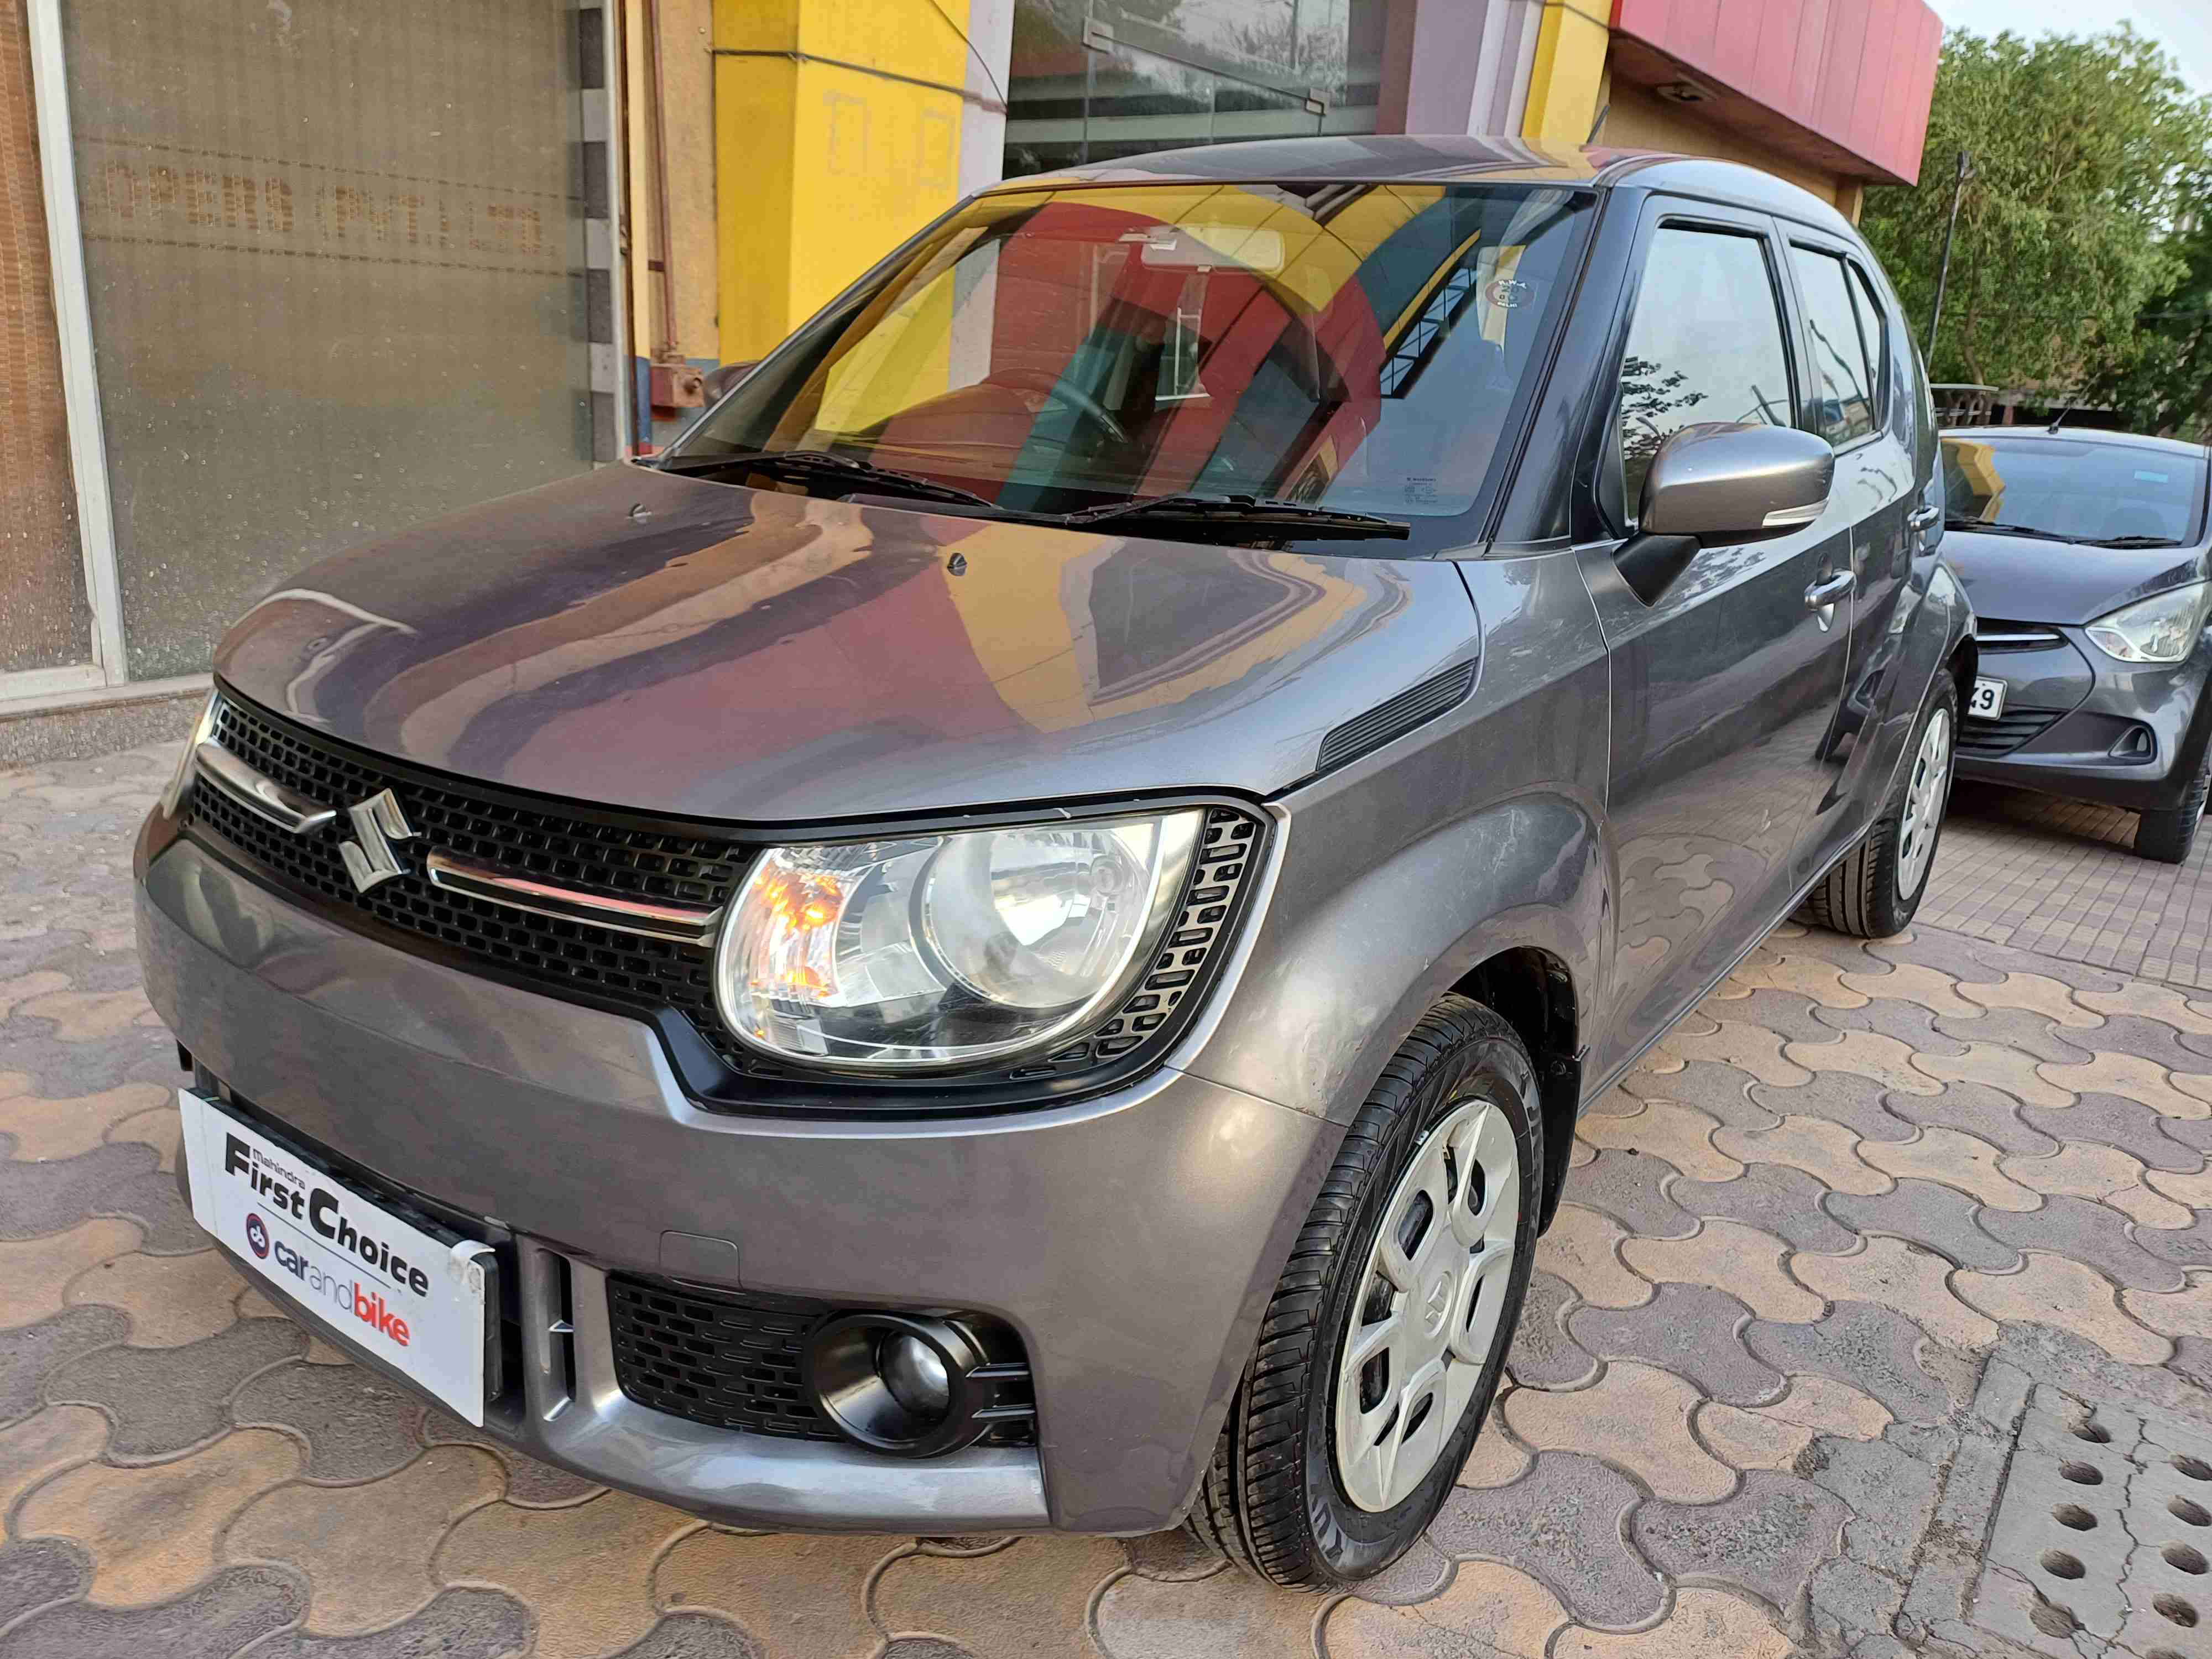car: (111, 122, 1991, 1607), (1898, 408, 2212, 877)
